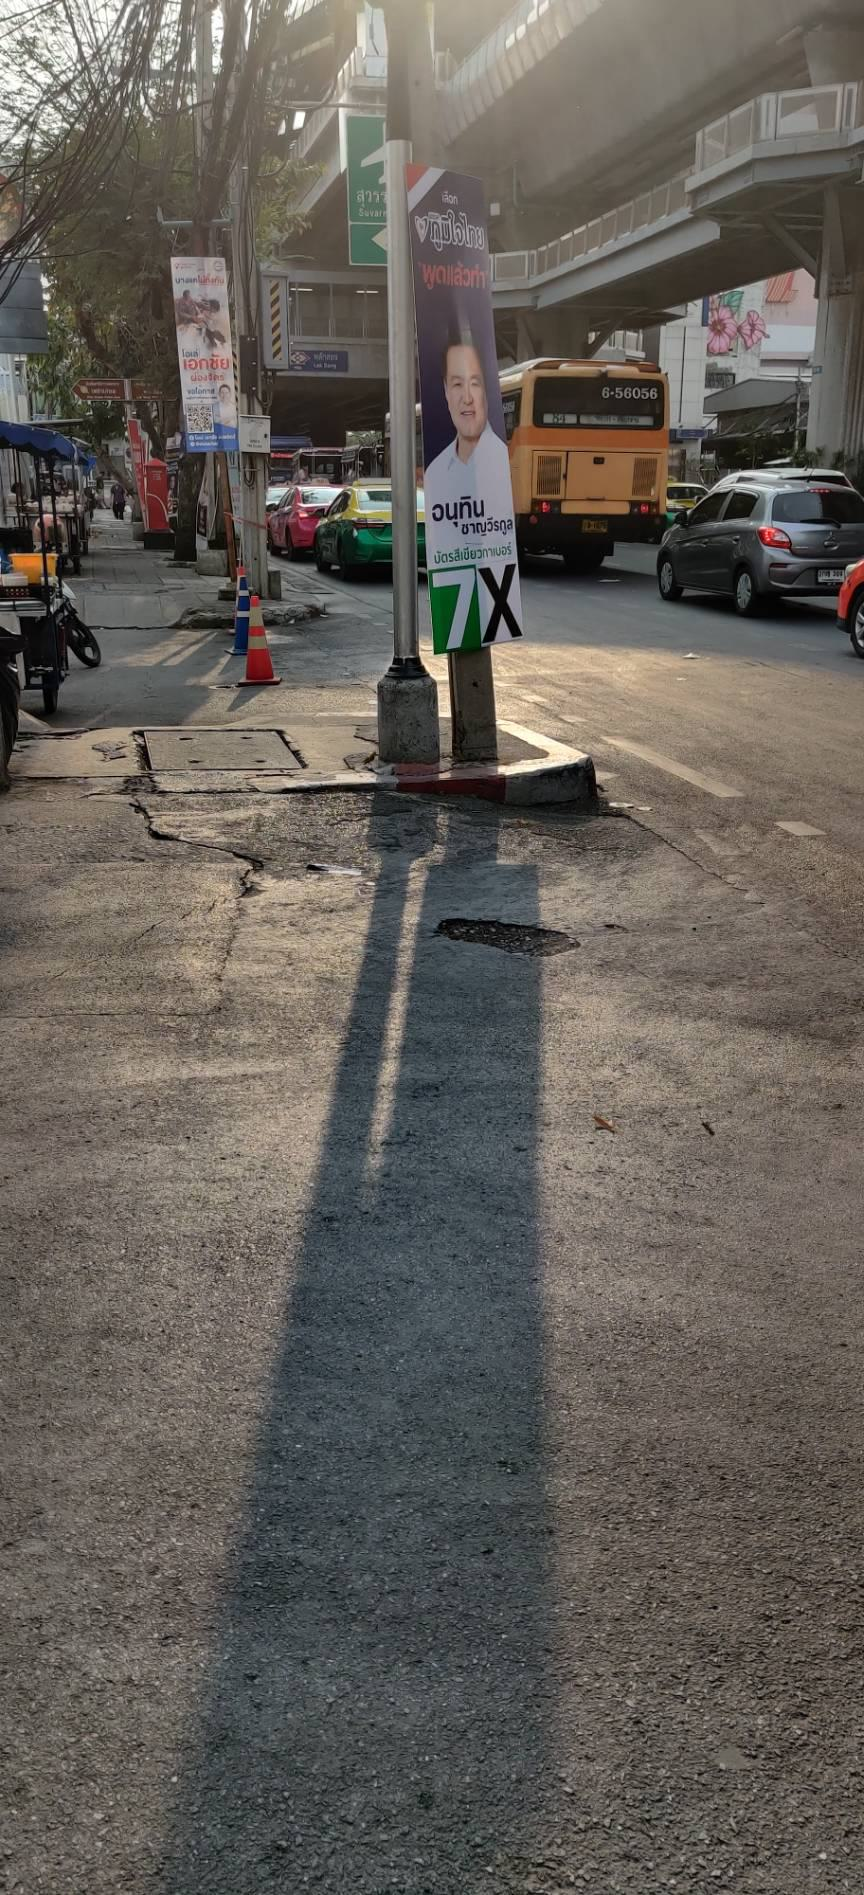Banner: (385, 152, 550, 663)
